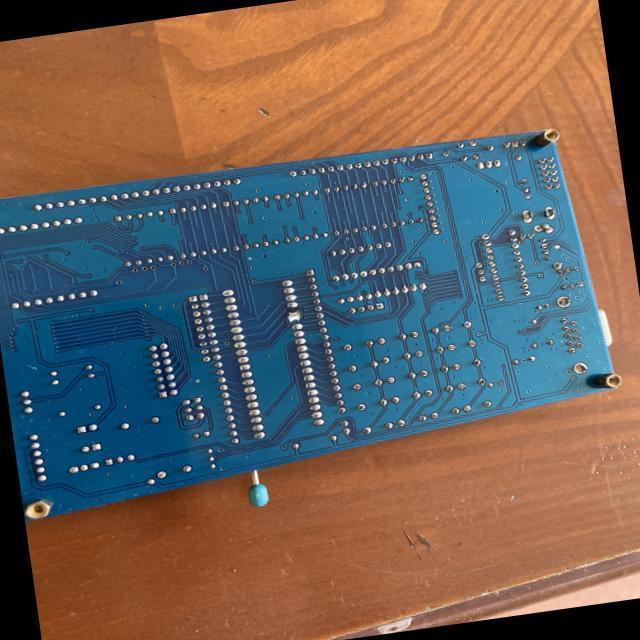damged: (287, 307, 304, 324)
